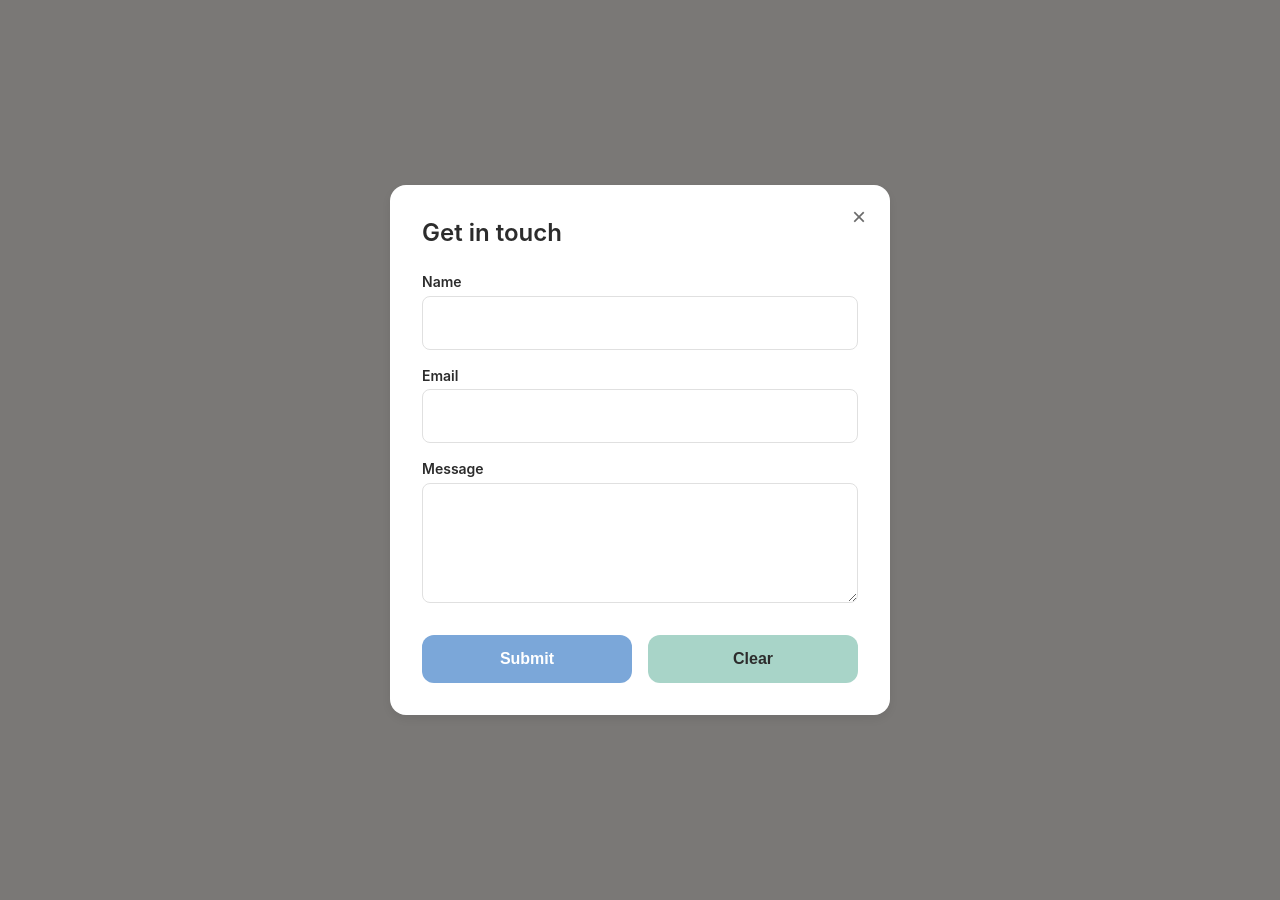
it: ContactModal › shows validation errors on empty submit
Step 1. Click the button "Submit" → point(527, 659), box [422,635,632,683]
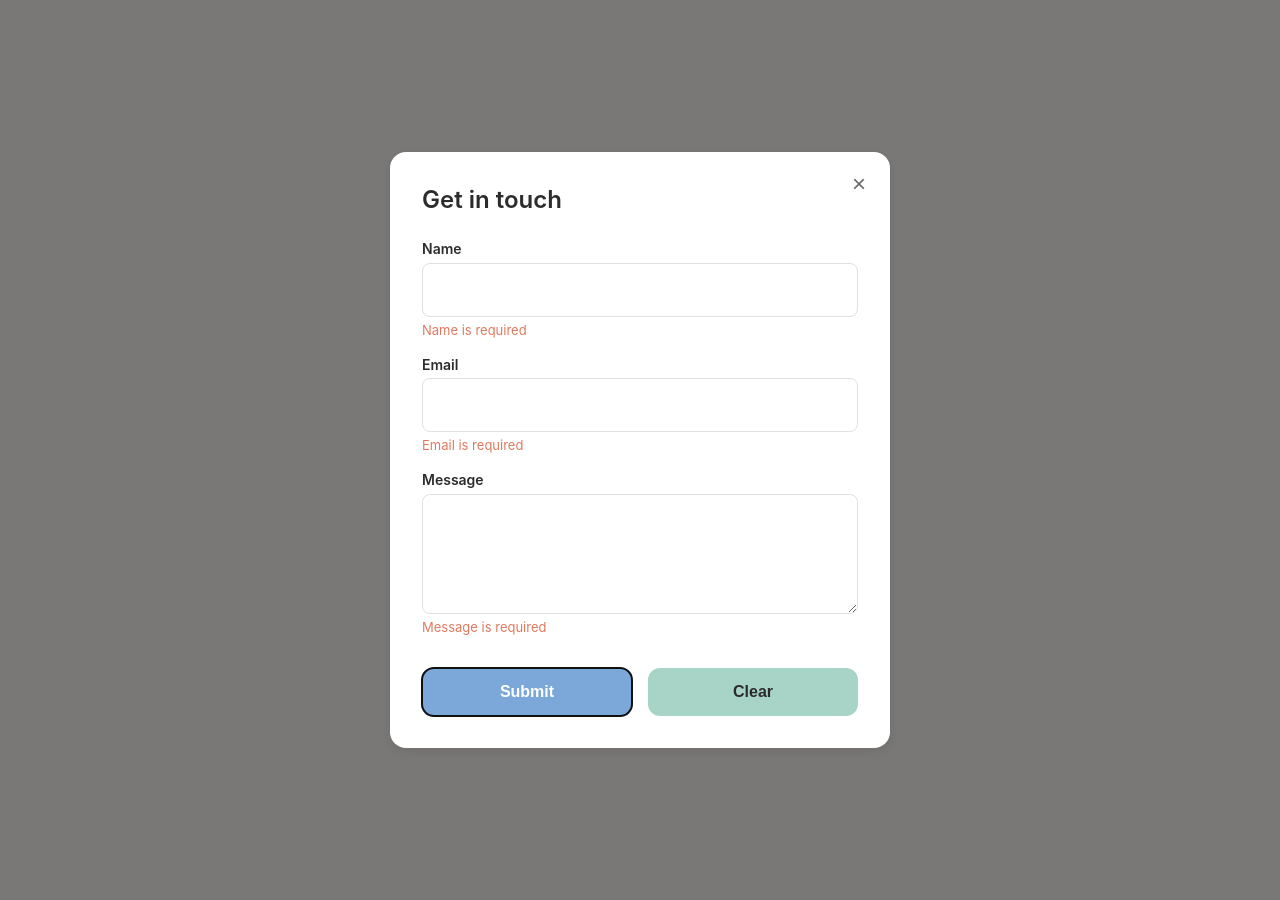
Expected: the text "Name is required" is shown, [422,322,527,338]
Expected: the text "Email is required" is shown, [422,437,523,453]
Expected: the text "Message is required" is shown, [422,619,546,635]
